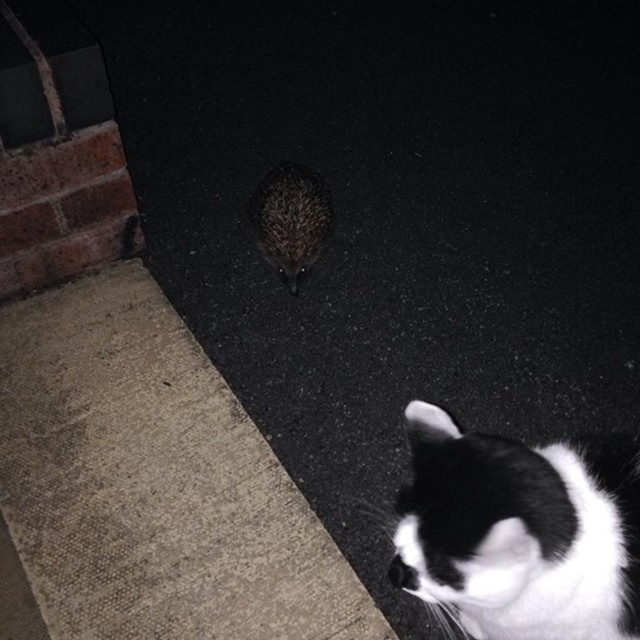Hedgehog: (238, 154, 342, 296)
